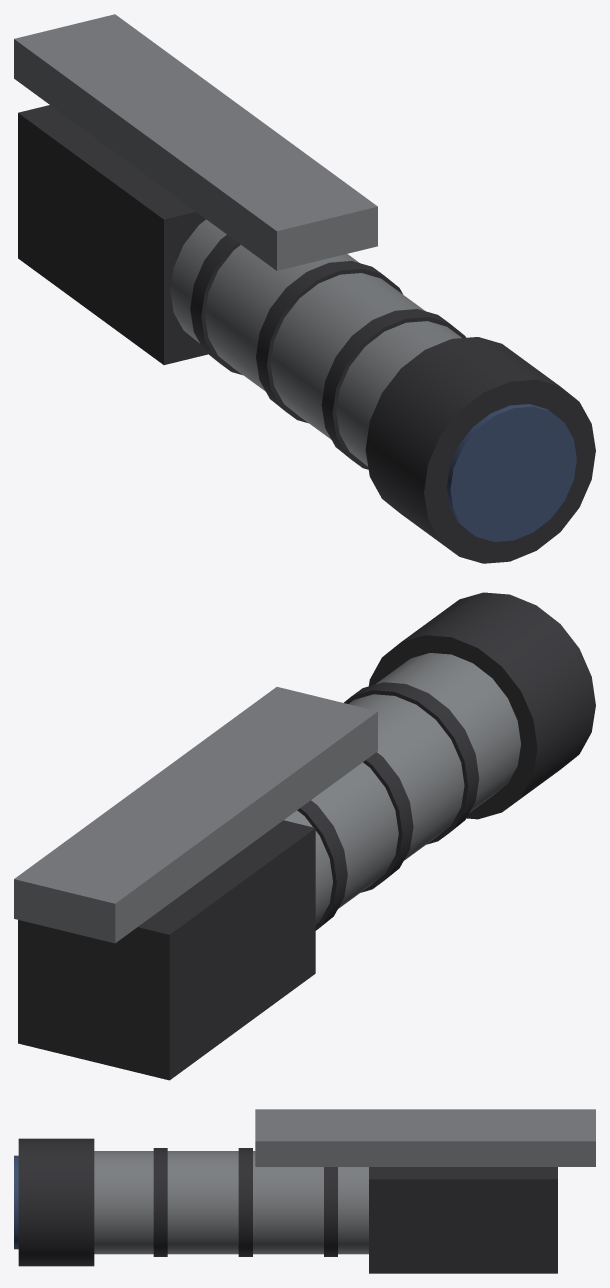
Rendered from zoom-camera.glb.
3 views of the same model, one above another, from view 1: azimuth 30°, elevation 25°; view 2: azimuth 150°, elevation 25°; view 3: azimuth 270°, elevation 25° (orthographic). The views are drawn at different scales.
Parts seen in each view (by area): view 1: zoom-camera; view 2: zoom-camera; view 3: zoom-camera.
Part boxes in pixels (box(x1,y1,x2,y2)): zoom-camera: box(14, 14, 595, 563); zoom-camera: box(14, 592, 595, 1080); zoom-camera: box(14, 1109, 595, 1273).
Bounding box in the file's own units: 0.136 × 0.158 × 0.615.
